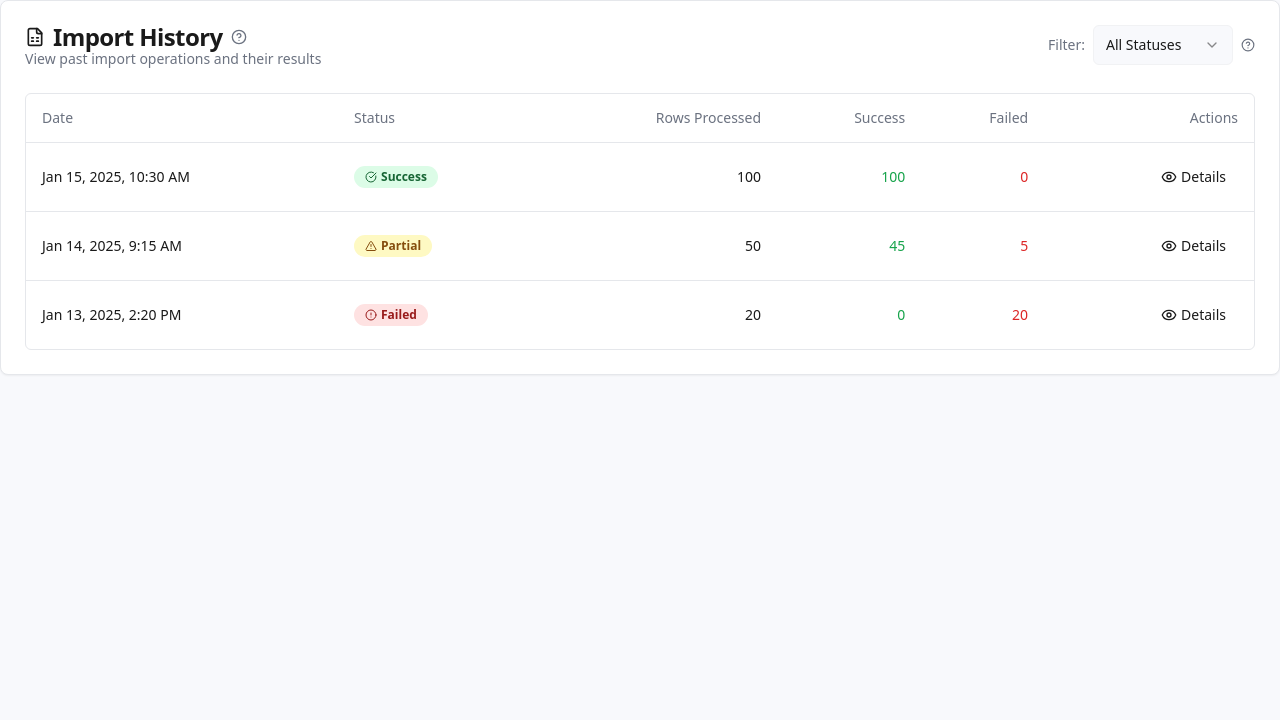
Test case: ImportHistoryCard › Details Dialog › opens details dialog when clicking Details button
The image size is (1280, 720).
Expected: the text "Jan 15, 2025, 10:30 AM" is shown, [26,142,338,211]
Click the button "Details" in the row of "Jan 15, 2025, 10:30 AM".
click(1194, 176)  # box [1149,158,1238,194]
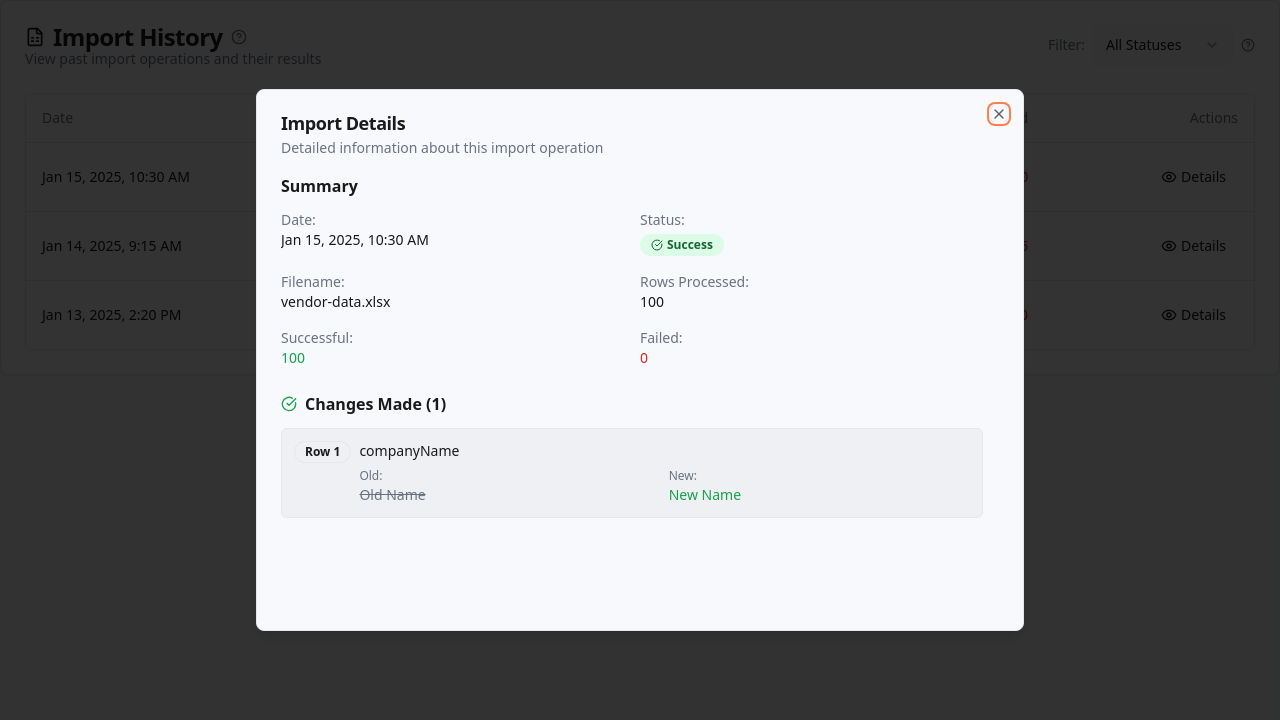
Now the dialog is shown, box [256,89,1024,631]
Now the heading "Import Details" is shown, box [281,111,405,135]
